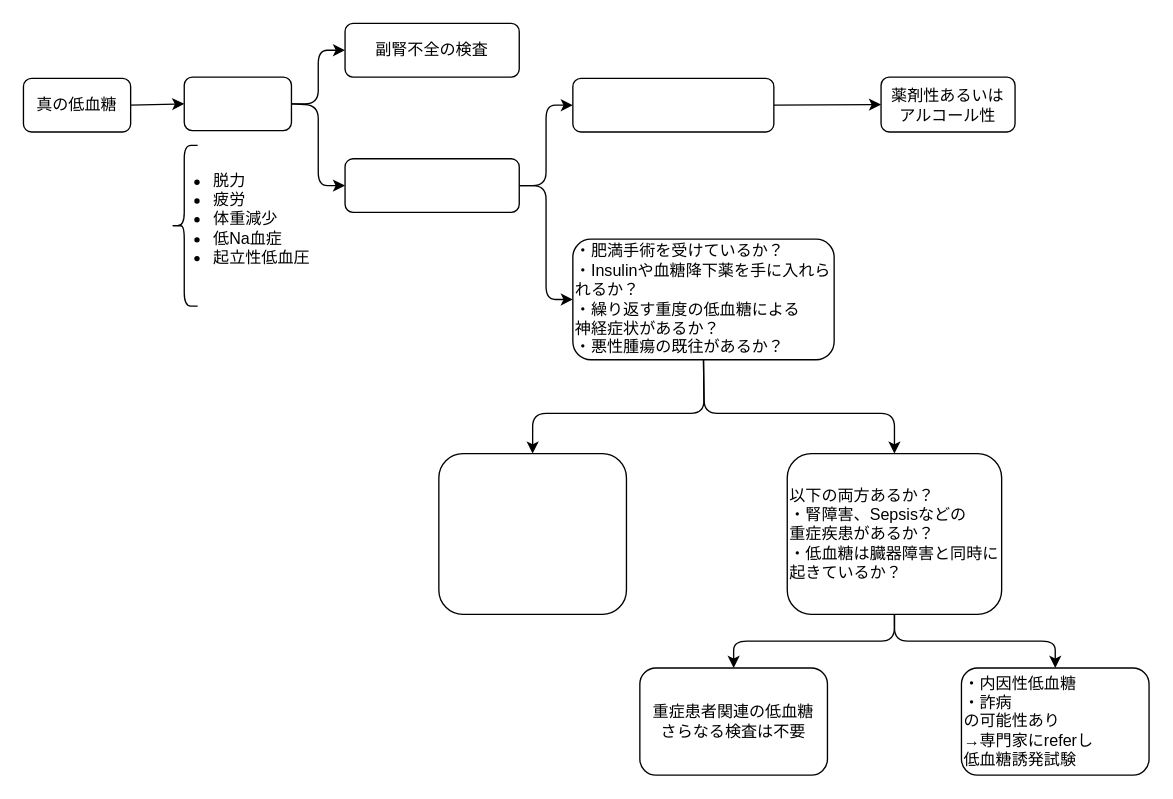
This 1173x799 diagram has some shape labels left out. Each missing label, with the centre of its shape:
"アルコールや薬剤性を疑う病歴があるか？" goes at [431,184].
"・詐病 ・内因性の高Insulin血症 ・NICTH の可能性あり →専門家にreferし 低血糖誘発試験" goes at [532,533].
"副腎不全徴候はあるか？" goes at [237,103].
"薬剤やアルコールの除去" goes at [673,104].
